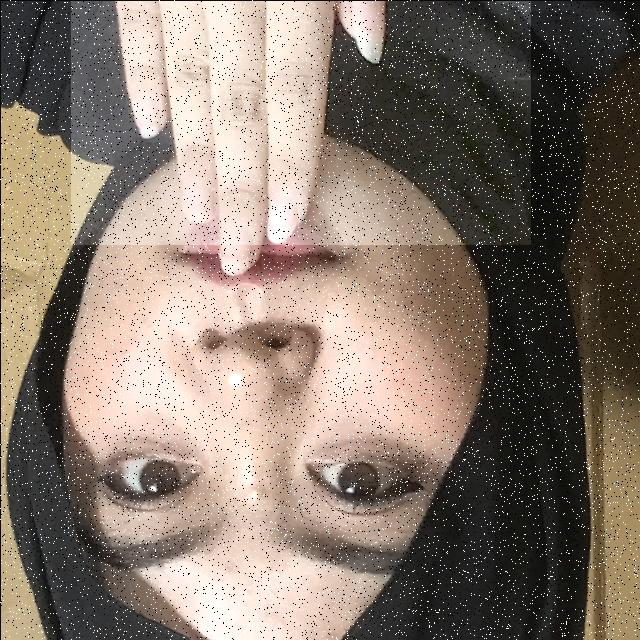ganteng: (70, 0, 530, 244)
